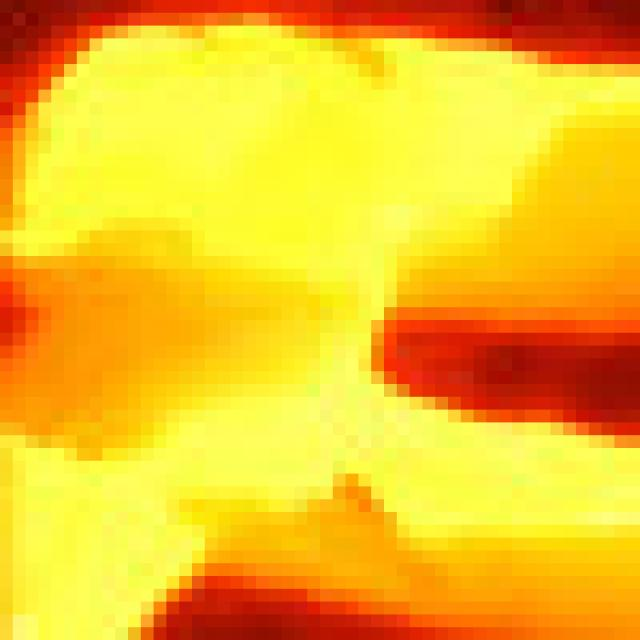no_fire: (23, 6, 640, 640)
